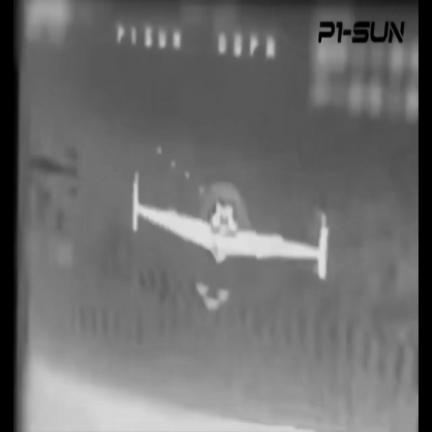Shahed: (133, 173, 329, 278)
